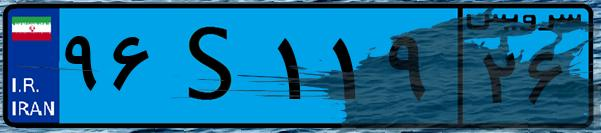1: (270, 28, 330, 110), (330, 28, 385, 110)
2: (475, 38, 525, 113)
6: (525, 38, 570, 115), (110, 28, 158, 98)
9: (385, 28, 445, 110), (57, 26, 110, 100)
S: (158, 12, 270, 120)
